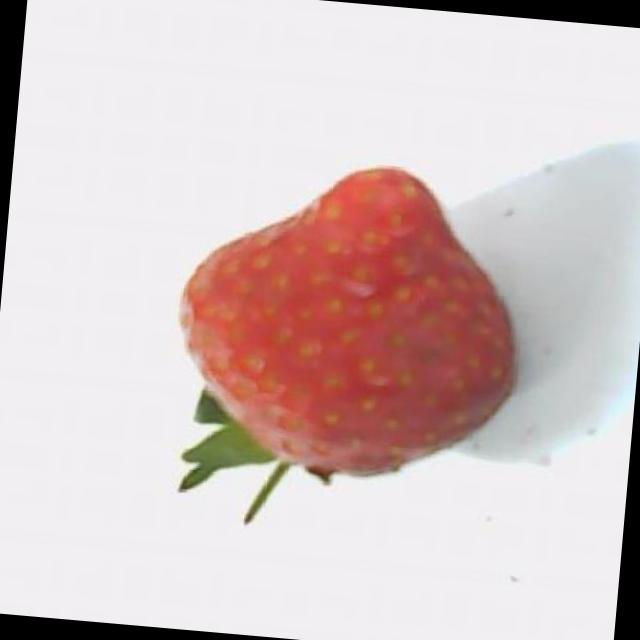strawberry: (178, 169, 511, 522)
